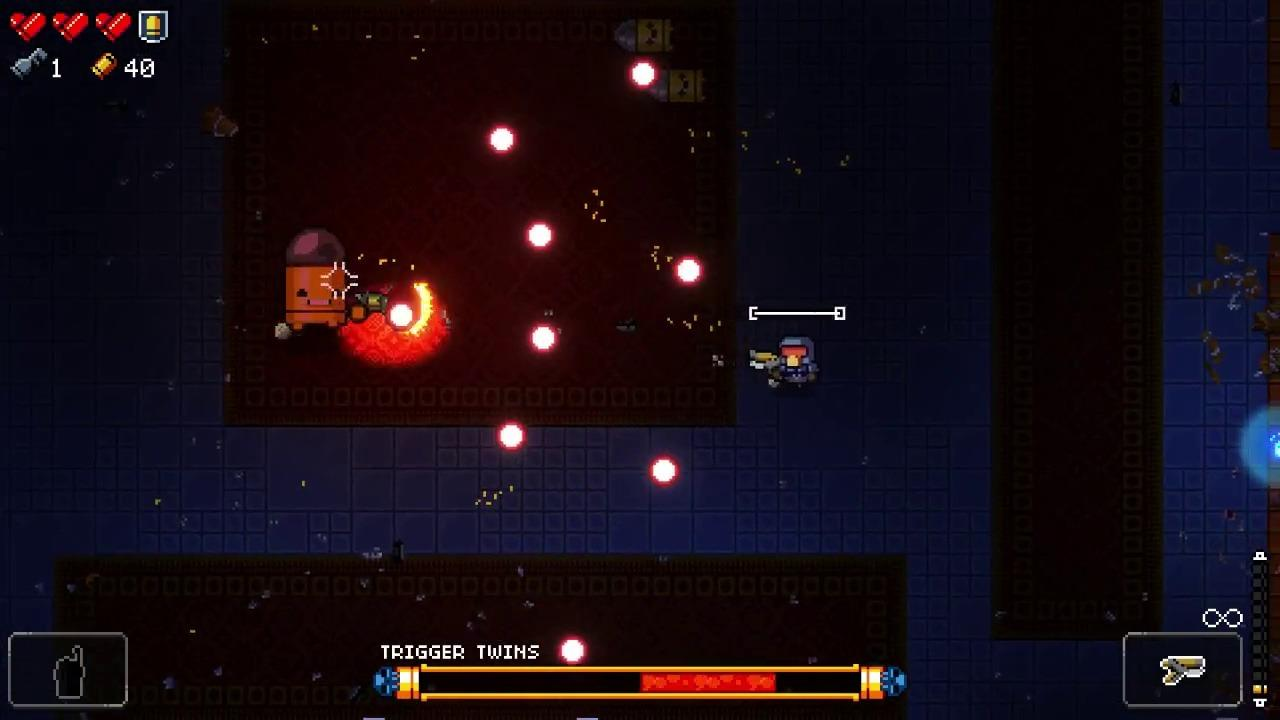boss_smiley: (283, 230, 348, 332)
bullet: (385, 300, 419, 332), (557, 634, 589, 668), (528, 322, 560, 355), (494, 422, 526, 453), (525, 216, 554, 250), (650, 457, 680, 488), (674, 257, 705, 287), (486, 127, 518, 155), (627, 61, 657, 86)
dead_bullet_kin: (613, 18, 677, 54), (648, 71, 704, 106)
player: (777, 337, 821, 388)
